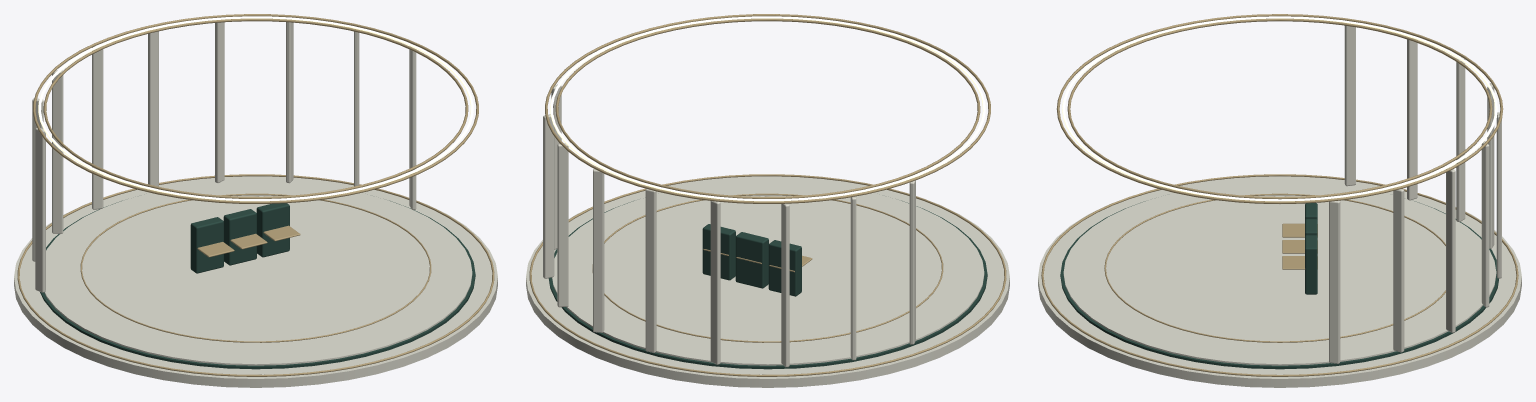
File: saved.glb
3 renders of one model, left to right at view 1: azimuth 30°, elevation 25°; view 2: azimuth 150°, elevation 25°; view 3: azimuth 270°, elevation 25°, orthographic.
Parts seen in each view (by area): view 1: saved; view 2: saved; view 3: saved.
Boxes of the visible parts, x1=… form: saved: x1=14, y1=14, x2=497, y2=387; saved: x1=526, y1=14, x2=1009, y2=387; saved: x1=1038, y1=14, x2=1521, y2=387.
Size of the model in its own units: 10.8 by 4.38 by 10.8.
